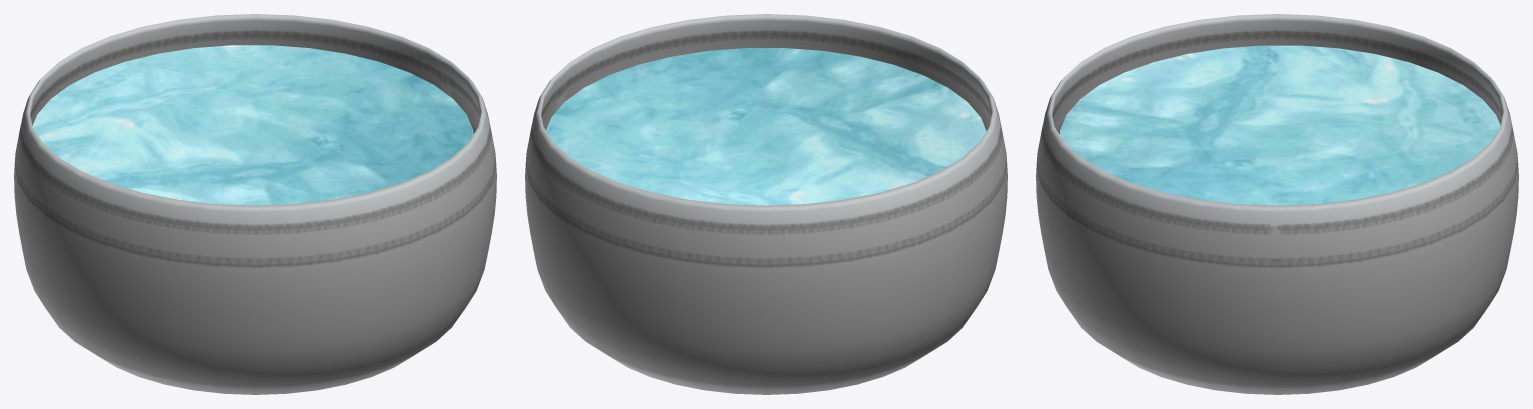
3 renders of one model, left to right at view 1: azimuth 30°, elevation 25°; view 2: azimuth 150°, elevation 25°; view 3: azimuth 270°, elevation 25°, orthographic.
Visible parts, largest first — view 1: Cylinder001; view 2: Cylinder001; view 3: Cylinder001.
Part boxes in pixels (box(x1,y1,x2,y2)): Cylinder001: box(14, 14, 496, 394); Cylinder001: box(525, 14, 1007, 394); Cylinder001: box(1036, 14, 1518, 394).
Size of the model in its own units: 2 by 1.09 by 2.
1 material, 1 textured.
